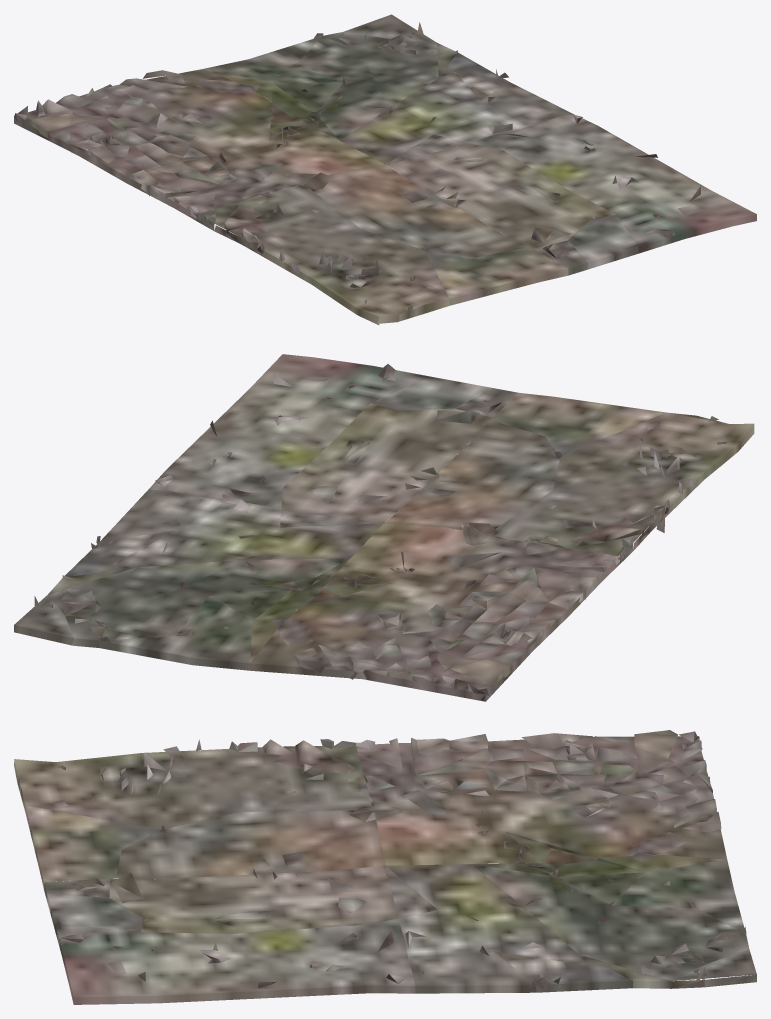
3 views of the same model, one above another, from view 1: azimuth 30°, elevation 25°; view 2: azimuth 150°, elevation 25°; view 3: azimuth 270°, elevation 25° (orthographic). The views are drawn at different scales.
Parts seen in each view (by area): view 1: Mesh_0; view 2: Mesh_0; view 3: Mesh_0.
Part boxes in pixels (x1,y1,x2,y2): Mesh_0: (14,14,756,324); Mesh_0: (14,354,754,701); Mesh_0: (14,730,756,1004).
Size of the model in its own units: 2129 by 198 by 2637.
Materials: 1 (1 with a texture image).
